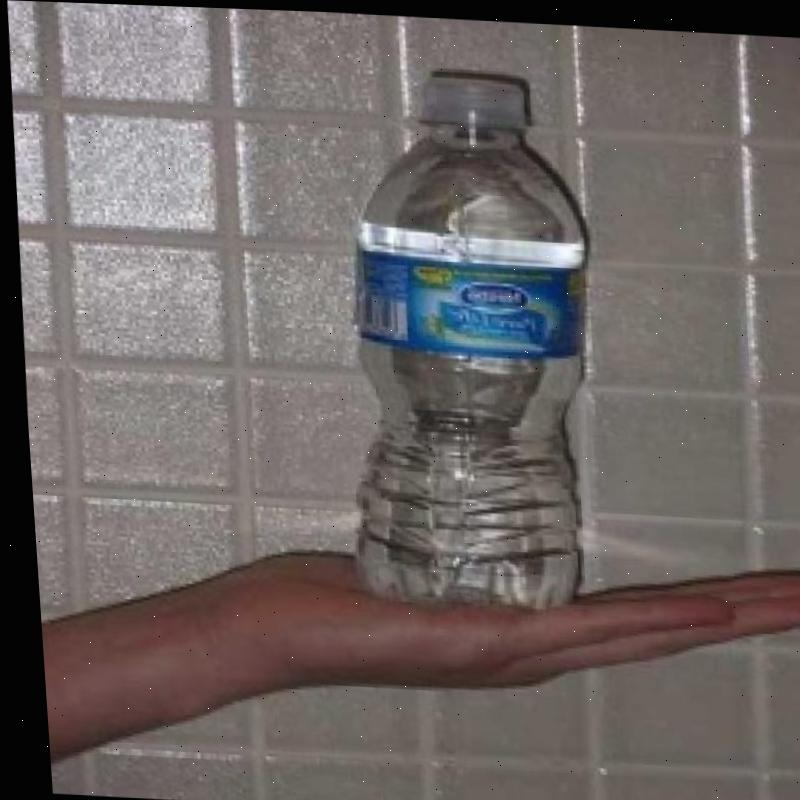botella: (316, 57, 608, 609)
